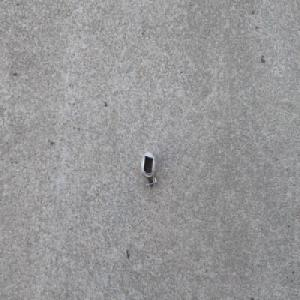MetalPart: (139, 149, 157, 192)
